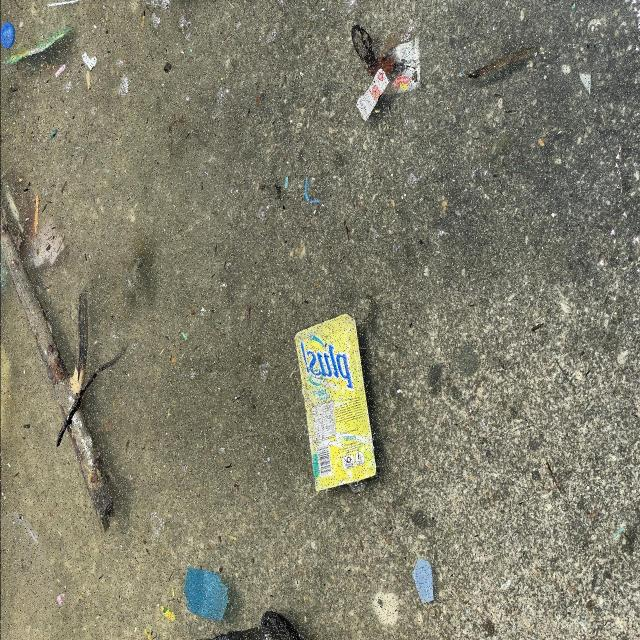plastic_waste: (295, 314, 384, 495)
